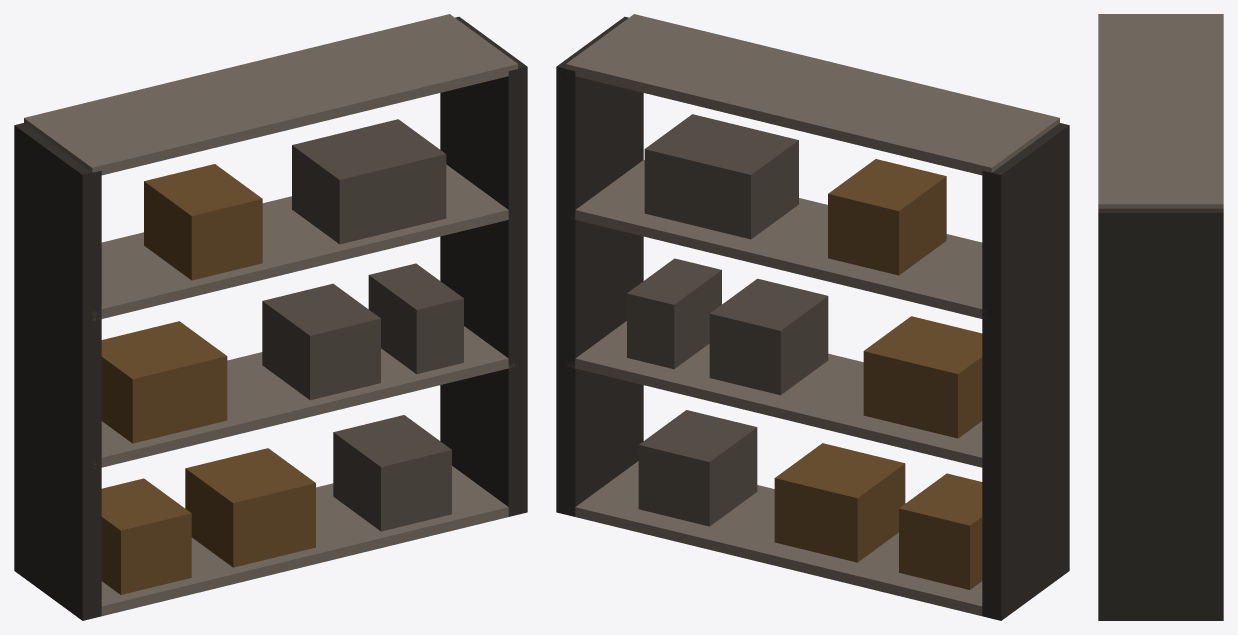
Rendered from work_parts_rack.glb.
3 renders of one model, left to right at view 1: azimuth 30°, elevation 25°; view 2: azimuth 150°, elevation 25°; view 3: azimuth 270°, elevation 25°, orthographic. The views are drawn at different scales.
Parts seen in each view (by area): view 1: sw5e_int_work_parts_rack; view 2: sw5e_int_work_parts_rack; view 3: sw5e_int_work_parts_rack.
Part boxes in pixels (x1,y1,x2,y2): sw5e_int_work_parts_rack: (14,14,527,620); sw5e_int_work_parts_rack: (556,14,1069,620); sw5e_int_work_parts_rack: (1098,14,1223,620).
Bounding box in the file's own units: 1.88 × 1.82 × 0.5.
